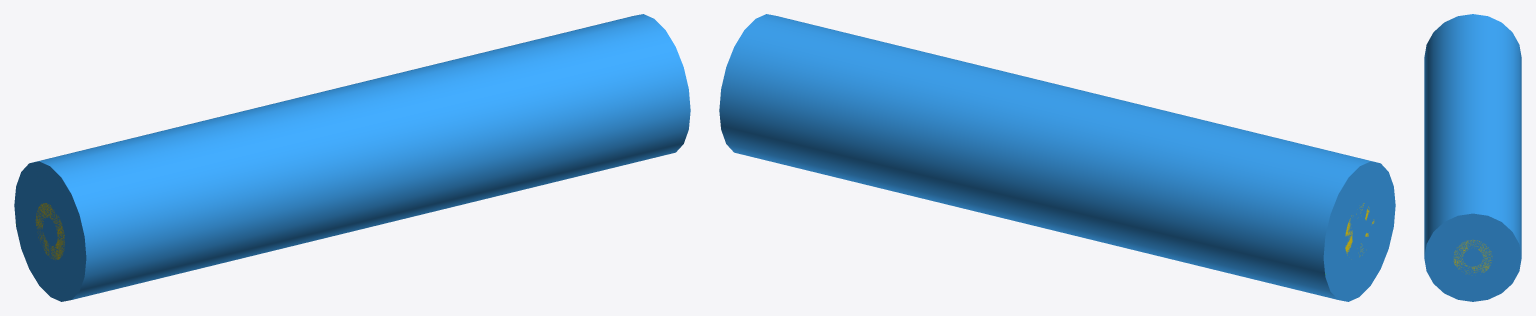
Rendered from blast01.fbx.
3 views of the same model, side by side, from view 1: azimuth 30°, elevation 25°; view 2: azimuth 150°, elevation 25°; view 3: azimuth 270°, elevation 25° (orthographic). The views are drawn at different scales.
Parts seen in each view (by area): view 1: pCylinder2, pPipe1; view 2: pCylinder2; view 3: pCylinder2, pPipe1.
Boxes of the visible parts, x1,y1,x2,y2 form: pCylinder2: (14, 14, 690, 301); pPipe1: (35, 203, 64, 259); pCylinder2: (719, 14, 1395, 301); pCylinder2: (1424, 14, 1521, 301); pPipe1: (1453, 240, 1492, 273).
Size of the model in its own units: 637 by 132 by 132.
